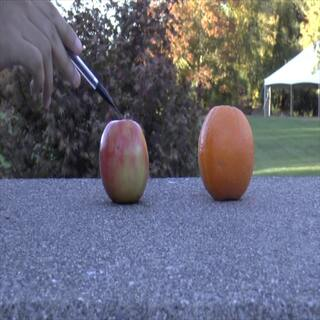apple: (94, 115, 155, 205)
orange: (198, 102, 260, 204)
